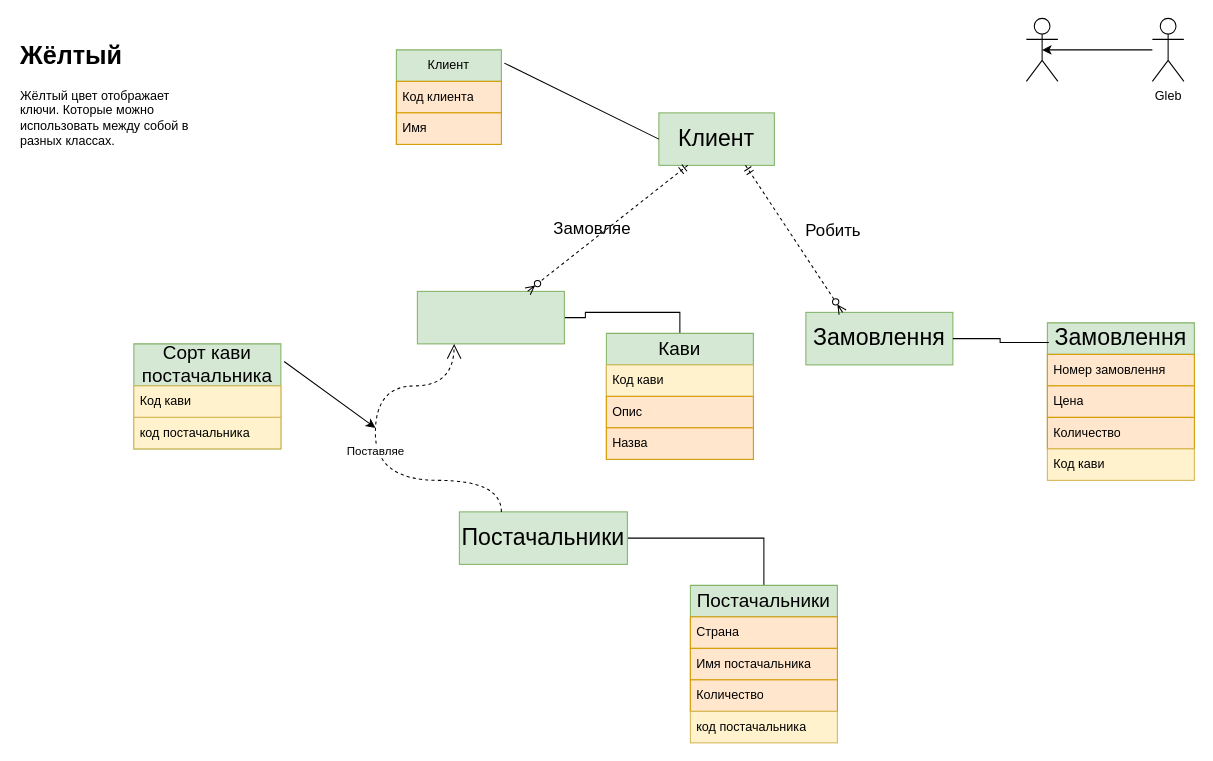
Some shapes in this 1213 by 761 pixel diagram are drawn without their labels. The centre of each missing label's shape, as x and y in pixels:
"Artem" goes at pixel 1041 49.
"Сорти кави" goes at pixel 490 317.
